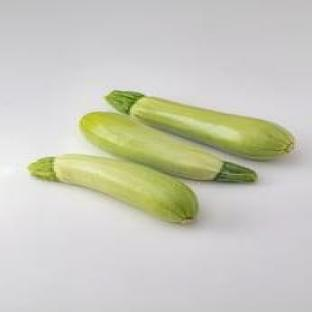Zucchini: (107, 92, 293, 159), (80, 112, 256, 182), (29, 155, 198, 223)
